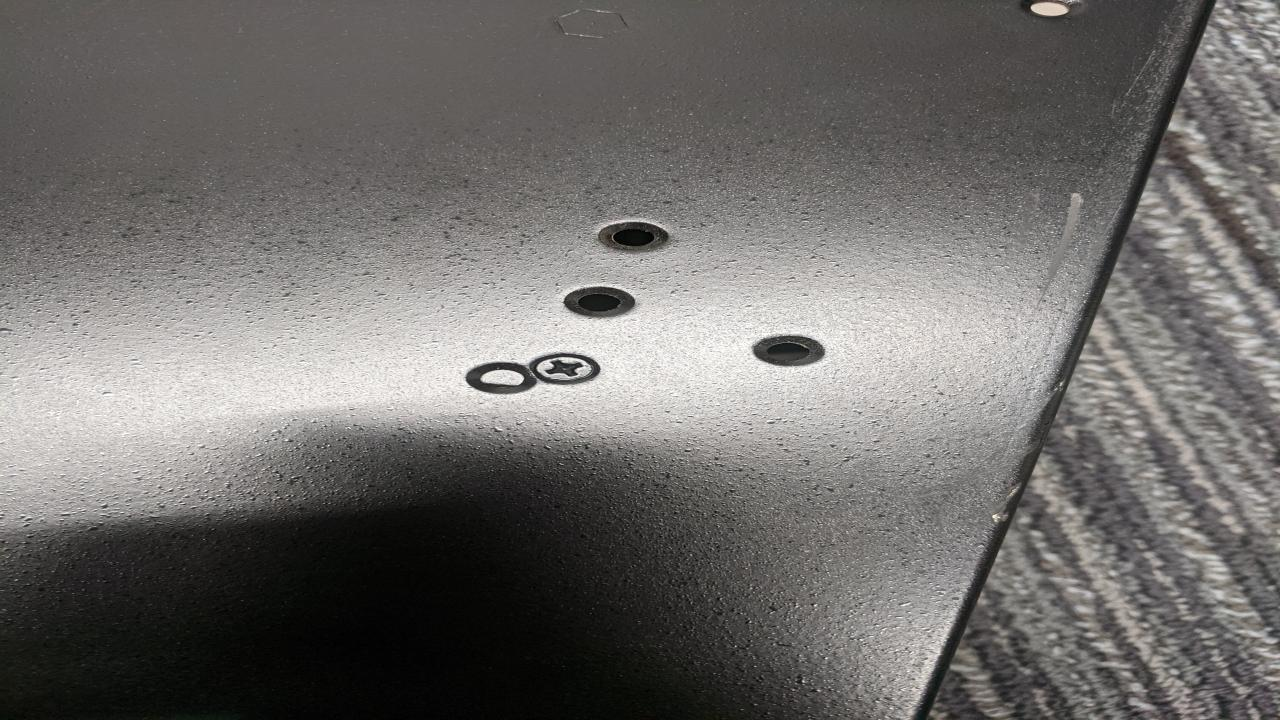CRS: (532, 352, 593, 382)
